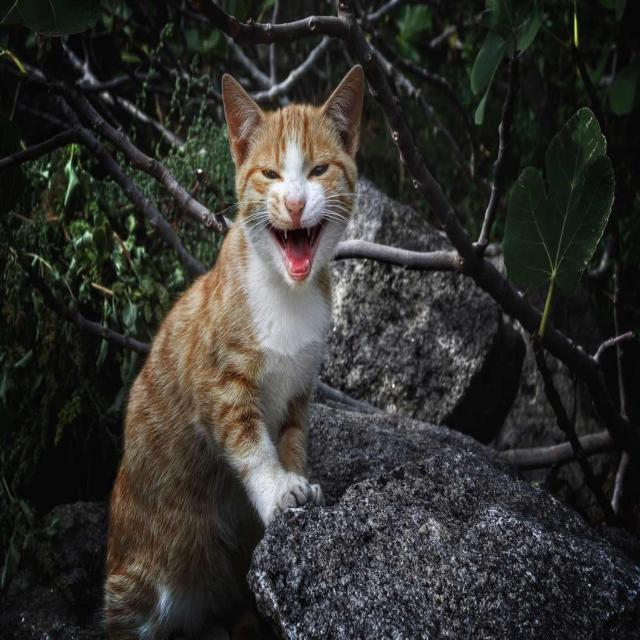Cat: (217, 61, 371, 299)
